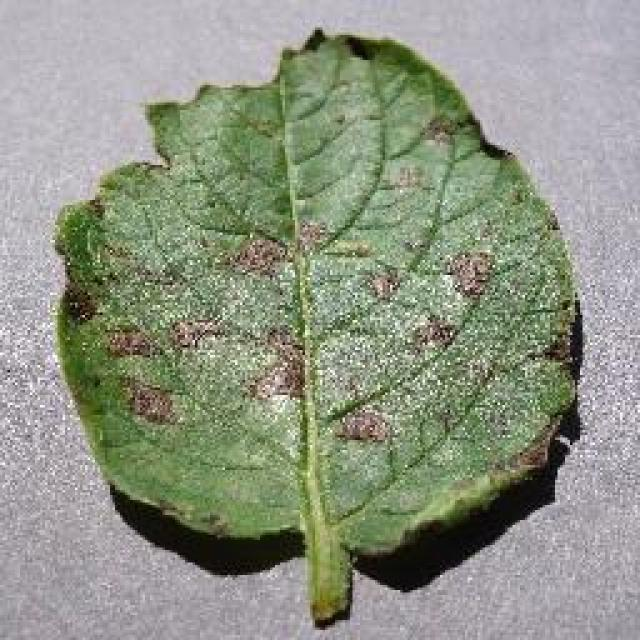early_blight: (45, 25, 585, 627)
